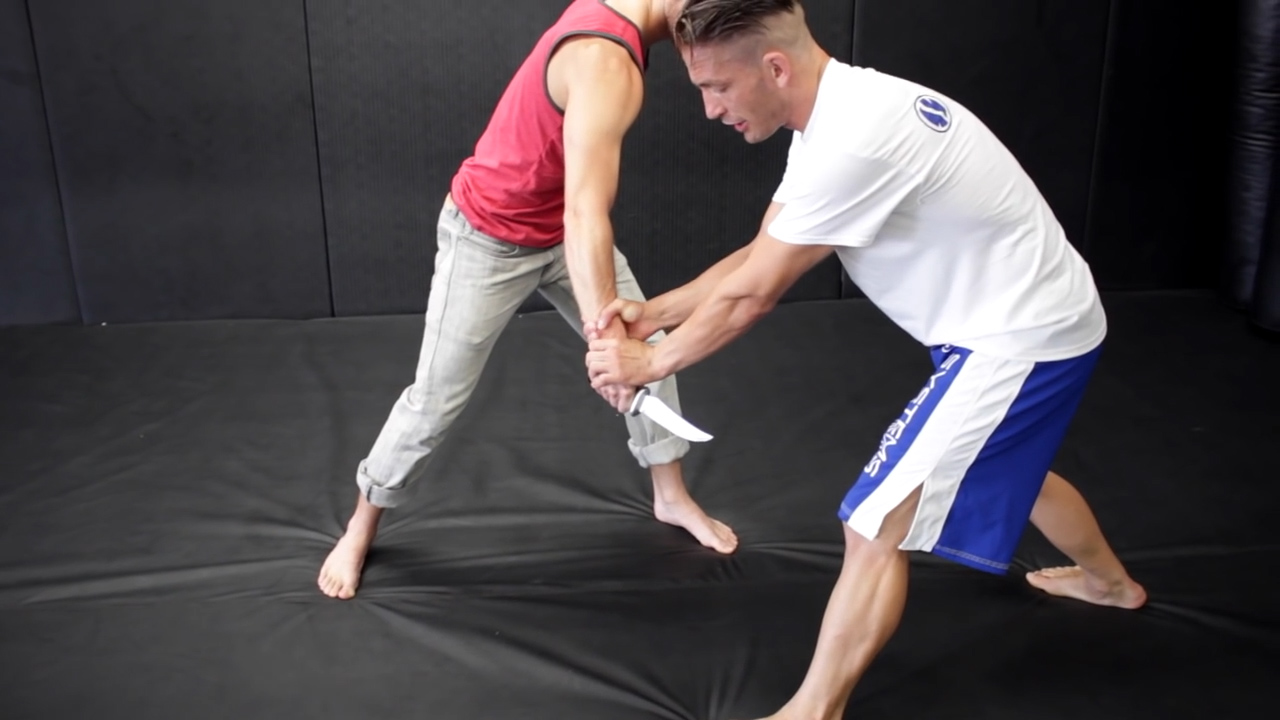knife: (583, 379, 725, 449)
